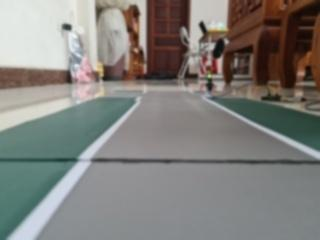green: (199, 60, 218, 93)
